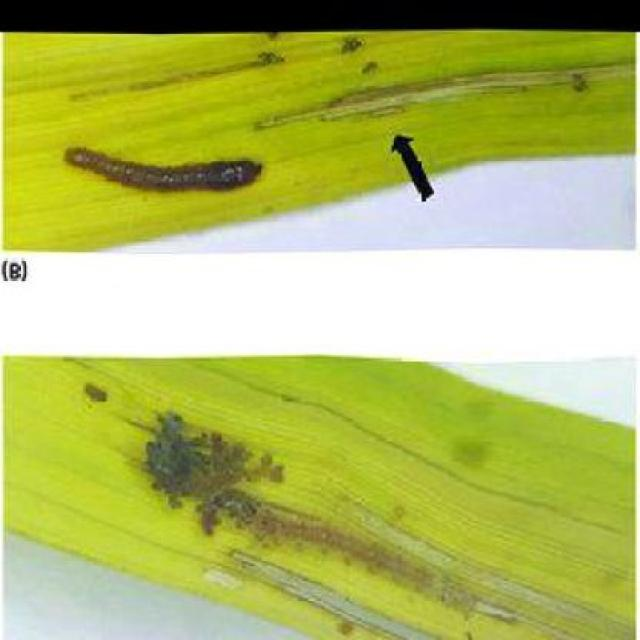leaf-folder: (279, 504, 459, 604), (55, 133, 267, 204), (136, 403, 256, 523), (353, 82, 410, 130)
